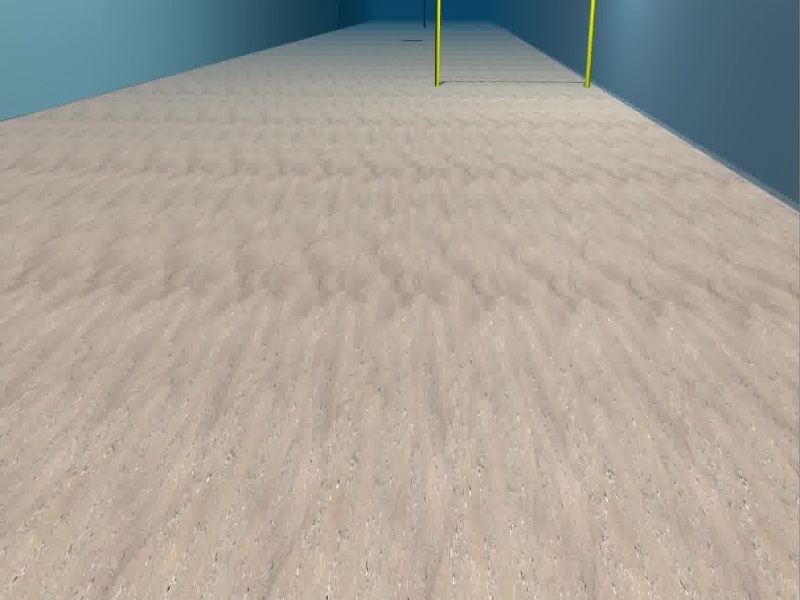gate: (434, 1, 591, 91)
